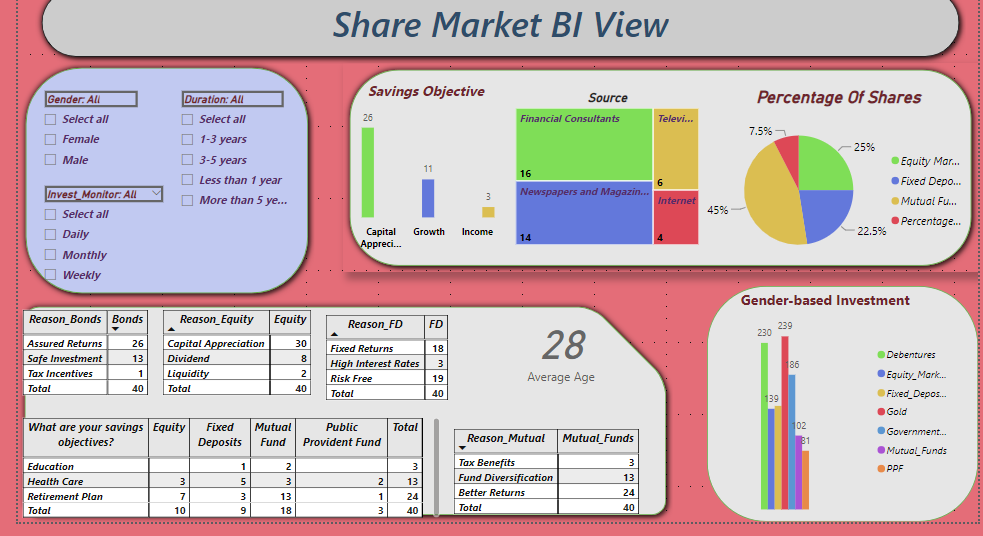

What the dashboard file says about the page in this screenshot:
{"tool":"powerbi","page":{"name":"Page 1","canvas":[1280,720],"ordinal":0},"visuals":[{"type":"shape","box":[1.4,105.7,394.3,318.6],"z":0,"group":"g1"},{"type":"shape","box":[432.6,108.6,846.8,279.3],"z":0,"group":"g6"},{"type":"shape","box":[918.6,405.7,361.4,314.3],"z":0,"group":"g4"},{"type":"shape","box":[0,424.3,872.9,295.7],"z":0,"group":"g5"},{"type":"card","fields":{"Values":["powerbi_data_set.Average Age"]},"box":[644.3,434.3,160,105.7],"z":1000,"group":"g5"},{"type":"pieChart","title":"Percentage Of Shares ","fields":{"Y":["powerbi_data_set.Percentage Equity Market","powerbi_data_set.Percentage Fixed Deposits","powerbi_data_set.Percentage Mutual Funds","powerbi_data_set.Percentage PPF"]},"box":[912.8,140.9,361.2,249.1],"z":2000,"group":"g6"},{"type":"pivotTable","fields":{"Columns":["powerbi_data_set.Avenue"],"Values":["CountNonNull(powerbi_data_set.Avenue)"],"Rows":["powerbi_data_set.What are your savings objectives?"]},"box":[1.4,576.7,565.7,142.9],"z":2000,"group":"g5"},{"type":"clusteredColumnChart","title":"Savings Objective","fields":{"Y":["powerbi_data_set.S.O Capital Appreciation","powerbi_data_set.S.O Growth","powerbi_data_set.S.O Income"],"Category":["powerbi_data_set.Objective"]},"box":[418.6,132.2,250,232.9],"z":3000,"group":"g6"},{"type":"slicer","fields":{"Values":["powerbi_data_set.Gender"]},"box":[22.3,140,150.5,117.1],"z":3000,"group":"g1"},{"type":"clusteredColumnChart","title":"Gender-based Investment","fields":{"Y":["Sum(powerbi_data_set.Debentures)","Sum(powerbi_data_set.Equity_Market)","Sum(powerbi_data_set.Fixed_Deposits)","Sum(powerbi_data_set.Gold)","Sum(powerbi_data_set.Government_Bonds)","Sum(powerbi_data_set.Mutual_Funds)","Sum(powerbi_data_set.PPF)"]},"box":[900,411.4,352.9,298.6],"z":3000,"group":"g2"},{"type":"pivotTable","fields":{"Rows":["powerbi_data_set.Reason_Bonds"],"Values":["CountNonNull(powerbi_data_set.Government_Bonds)"]},"box":[1.4,432.9,197.1,128.6],"z":3000,"group":"g5"},{"type":"pivotTable","fields":{"Rows":["powerbi_data_set.Reason_Equity"],"Values":["CountNonNull(powerbi_data_set.Equity_Market)"]},"box":[188.6,432.9,217.1,128.6],"z":4000,"group":"g5"},{"type":"slicer","fields":{"Values":["powerbi_data_set.Duration"]},"box":[204.8,140,161.6,238.6],"z":5000,"group":"g1"},{"type":"pivotTable","fields":{"Rows":["powerbi_data_set.Reason_FD"],"Values":["CountNonNull(powerbi_data_set.Fixed_Deposits)"]},"box":[405.7,438.6,185.7,128.6],"z":5000,"group":"g5"},{"type":"slicer","fields":{"Values":["powerbi_data_set.Invest_Monitor"]},"box":[22.3,267.1,183.9,148.6],"z":6000,"group":"g1"},{"type":"pivotTable","fields":{"Rows":["powerbi_data_set.Reason_Mutual"],"Values":["CountNonNull(powerbi_data_set.Mutual_Funds)"]},"box":[575.7,591.4,265.7,128.6],"z":6000,"group":"g5"},{"type":"shape","box":[22.9,0,1241.4,108.6],"z":7000},{"type":"group","id":"g1","title":"Group 1","box":[1.4,105.7,394.3,318.6],"z":8000},{"type":"group","id":"g2","title":"Group 2","box":[900,411.4,352.9,298.6],"z":8000,"group":"g4"},{"type":"group","id":"g3","title":"Group 3","box":[418.6,108.6,860.8,281.4],"z":9000},{"type":"treemap","title":"Source","fields":{"Group":["powerbi_data_set.Source"],"Values":["CountNonNull(powerbi_data_set.Age)"]},"box":[659.2,144.9,254.3,211.4],"z":9000,"group":"g6"},{"type":"group","id":"g4","title":"Group 5","box":[900,405.7,380,314.3],"z":10000},{"type":"group","id":"g5","title":"Group 6","box":[0,424.3,872.9,295.7],"z":10001},{"type":"group","id":"g6","title":"Group 4","box":[418.6,108.6,860.8,281.4],"z":12002,"group":"g3"}]}

Visuals, with their boxes on the page's 1280x720 design canvas (x1, y1, x2, y2). These are canvas units, not pixel positions in the 983x536 screenshot, which may show the page scaled, cropped or inside an application window:
shape: [1,106,396,424]
shape: [433,109,1279,388]
shape: [919,406,1280,720]
shape: [0,424,873,720]
card - powerbi_data_set.Average Age: [644,434,804,540]
"Percentage Of Shares " pieChart: [913,141,1274,390]
pivotTable - powerbi_data_set.Avenue x CountNonNull(powerbi_data_set.Avenue): [1,577,567,720]
"Savings Objective" clusteredColumnChart: [419,132,669,365]
slicer - powerbi_data_set.Gender: [22,140,173,257]
"Gender-based Investment" clusteredColumnChart: [900,411,1253,710]
pivotTable - powerbi_data_set.Reason_Bonds x CountNonNull(powerbi_data_set.Government_Bonds): [1,433,198,562]
pivotTable - powerbi_data_set.Reason_Equity x CountNonNull(powerbi_data_set.Equity_Market): [189,433,406,562]
slicer - powerbi_data_set.Duration: [205,140,366,379]
pivotTable - powerbi_data_set.Reason_FD x CountNonNull(powerbi_data_set.Fixed_Deposits): [406,439,591,567]
slicer - powerbi_data_set.Invest_Monitor: [22,267,206,416]
pivotTable - powerbi_data_set.Reason_Mutual x CountNonNull(powerbi_data_set.Mutual_Funds): [576,591,841,720]
shape: [23,0,1264,109]
"Group 1" group: [1,106,396,424]
"Group 2" group: [900,411,1253,710]
"Group 3" group: [419,109,1279,390]
"Source" treemap: [659,145,914,356]
"Group 5" group: [900,406,1280,720]
"Group 6" group: [0,424,873,720]
"Group 4" group: [419,109,1279,390]
